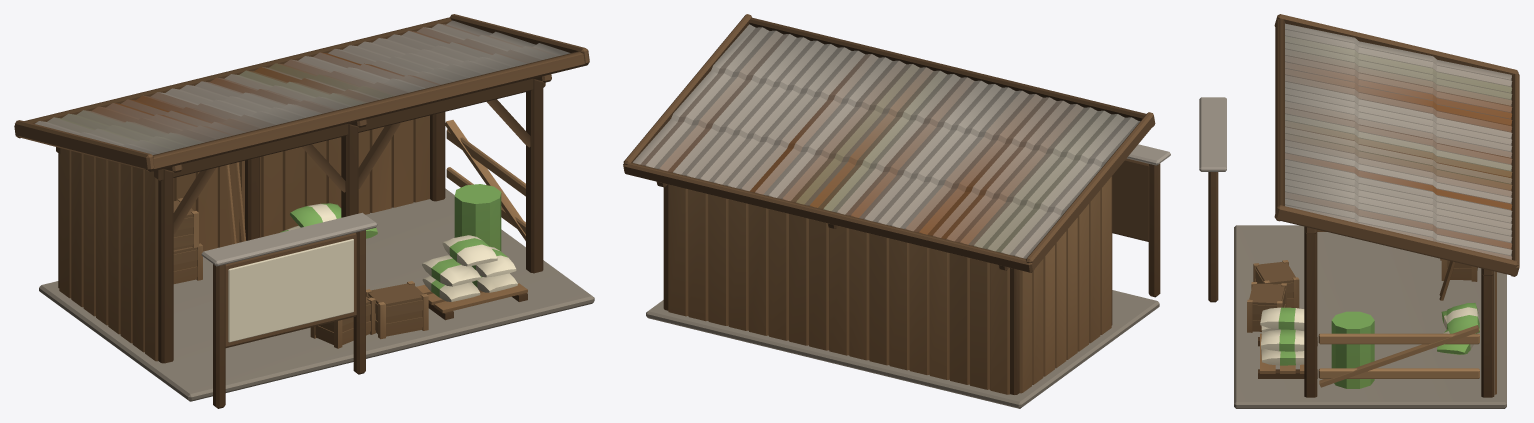
File: gudang.glb
3 renders of one model, left to right at view 1: azimuth 30°, elevation 25°; view 2: azimuth 150°, elevation 25°; view 3: azimuth 270°, elevation 25°, orthographic. The views are drawn at different scales.
Visible parts, largest first — view 1: gudang_mesh, SignBoard; view 2: gudang_mesh; view 3: gudang_mesh.
Part boxes in pixels (x1=…): gudang_mesh: x1=14, y1=14, x2=594, y2=408; SignBoard: x1=228, y1=239, x2=353, y2=342; gudang_mesh: x1=623, y1=14, x2=1170, y2=408; gudang_mesh: x1=1199, y1=14, x2=1519, y2=408.
Bounding box in the file's own units: 5.98 × 3.02 × 4.16.
